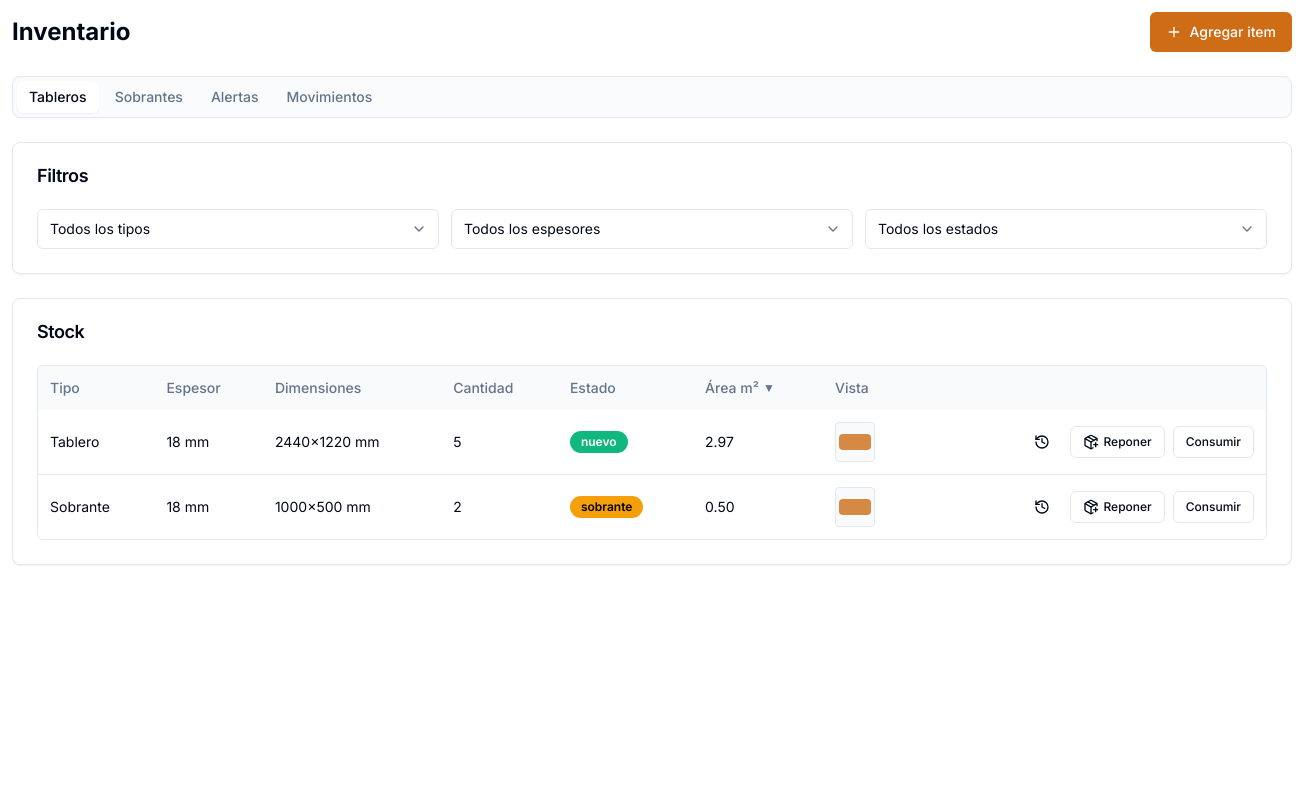
InventoryPage › loads low stock alerts when Alertas tab is selected
Check: the text "2440×1220 mm" is shown, box 263,410 -> 441,474
Click the button "Alertas". click: point(235, 97)
box: 199,81 -> 271,113
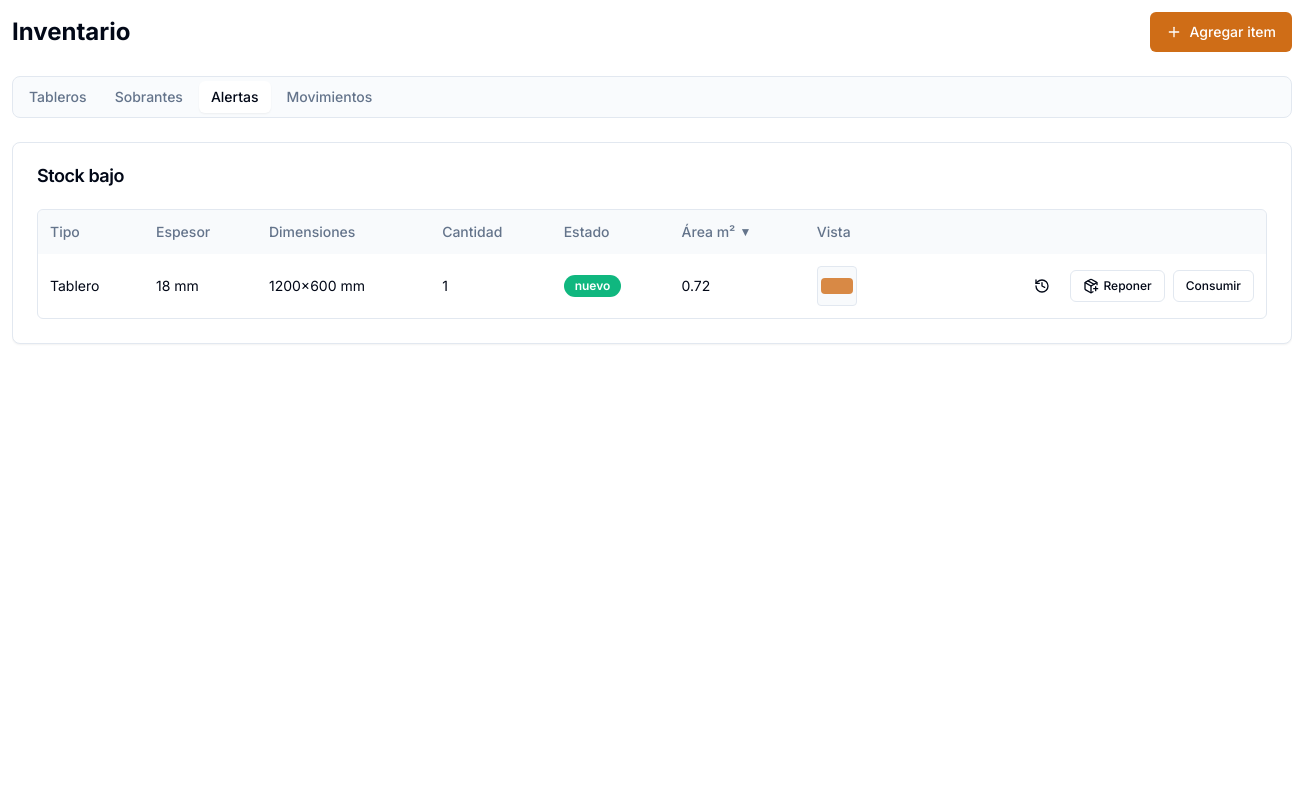
Check: the text "1200×600 mm" is shown, box 257,254 -> 430,318
